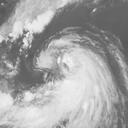cyclone: (37, 39, 108, 104)
